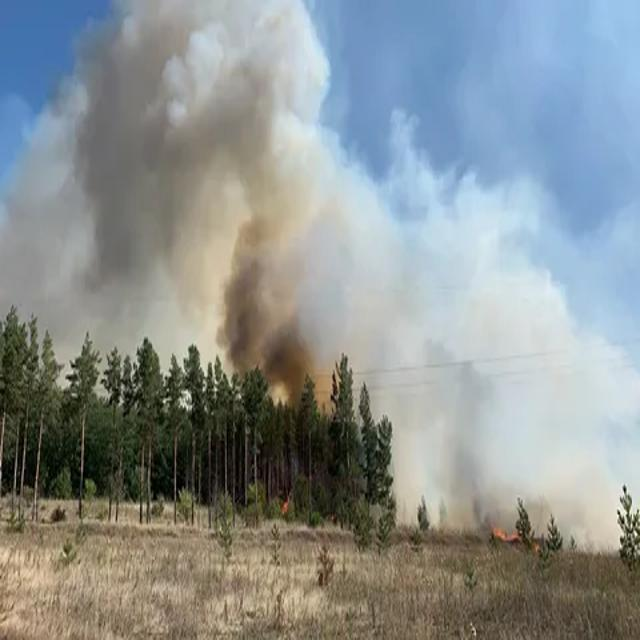Smoke: (66, 0, 340, 414), (412, 322, 550, 540)
